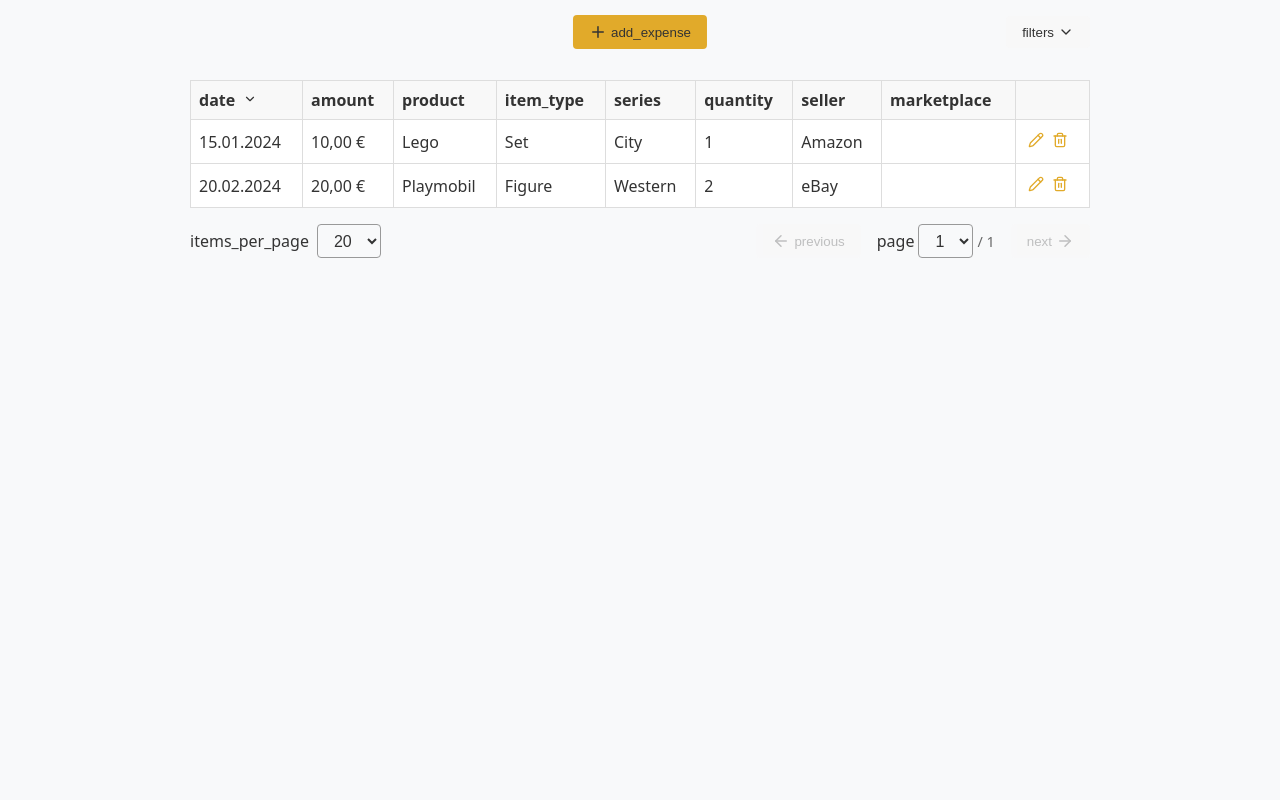
Test: <ExpensesView/> › closes the dialog when the cancel button is clicked
This screenshot has width=1280, height=800.
Step 1. Click the button "add_expense" → coordinates (640, 32), box [573, 15, 707, 49]
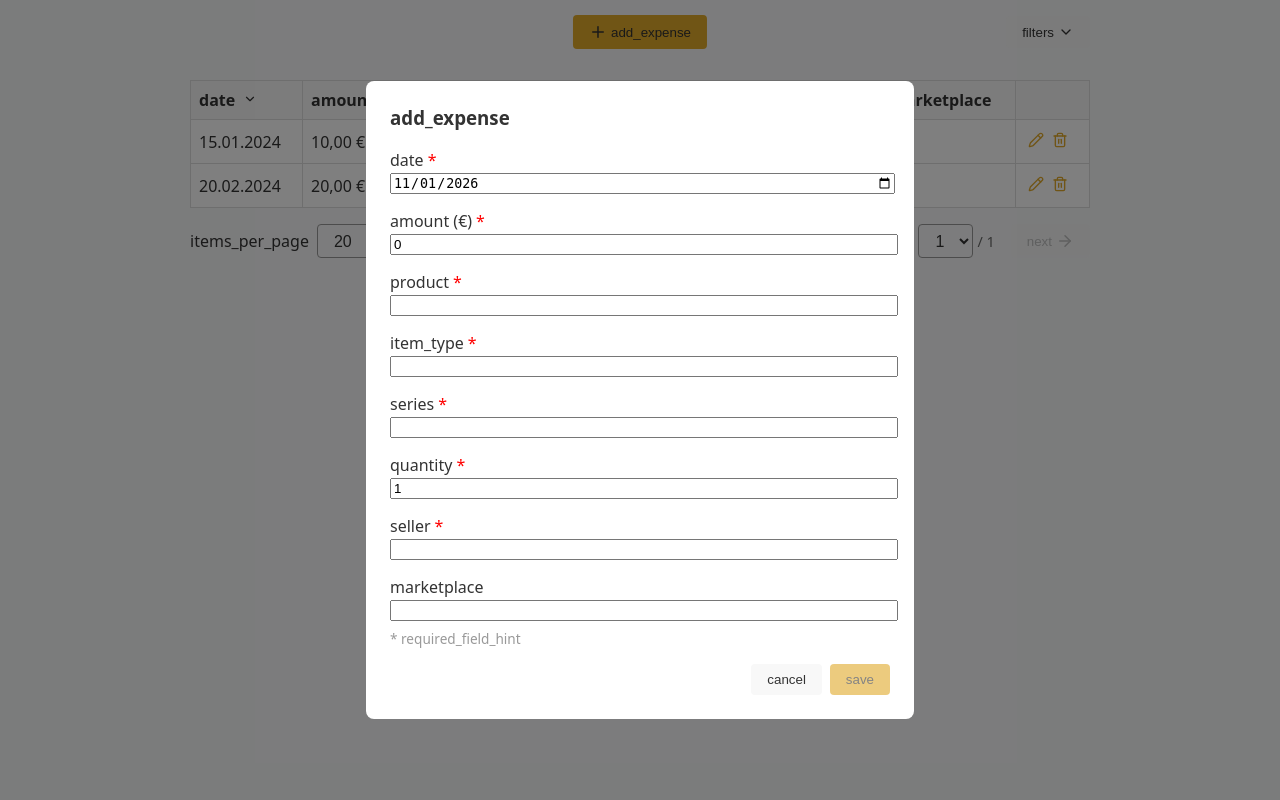
Expected: the button "save" is shown, [830, 664, 890, 695]
Step 2. Click the button "cancel" → coordinates (787, 679), box [751, 664, 822, 695]
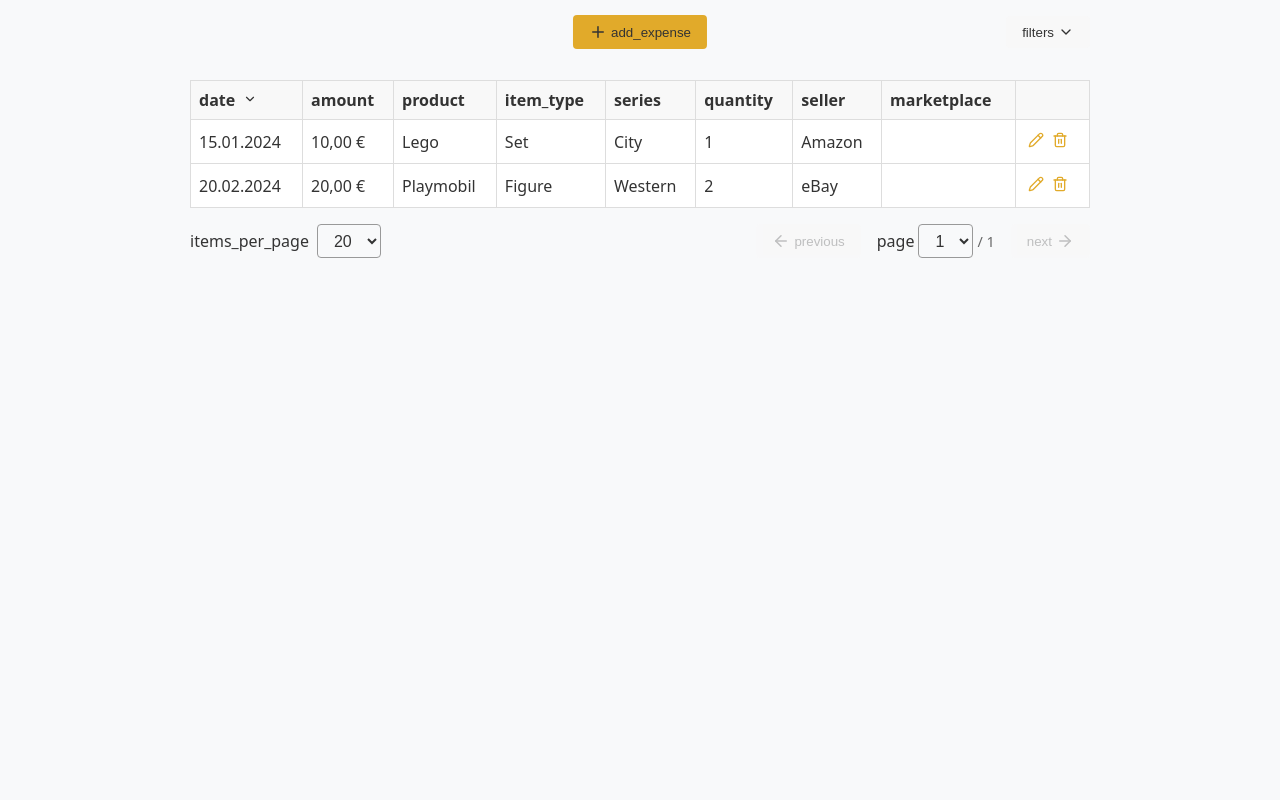
Expected: the button "save" is gone
